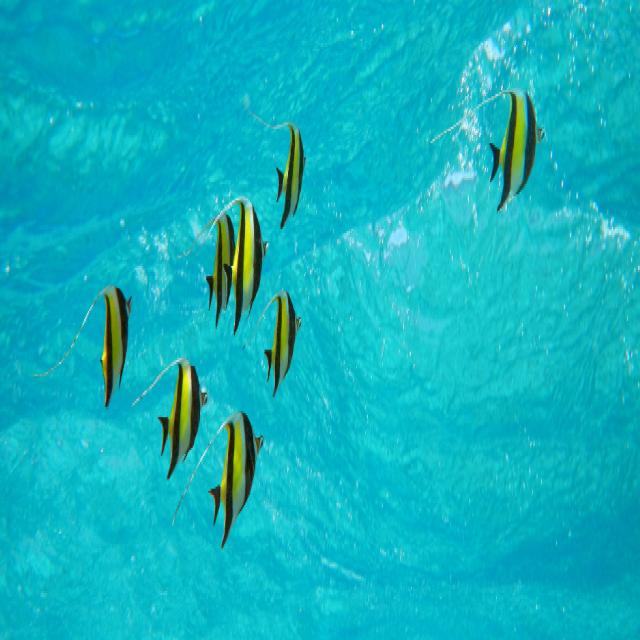MorishIdol: (172, 407, 264, 550), (131, 353, 208, 482), (67, 282, 132, 409), (487, 84, 545, 215), (242, 286, 302, 399), (223, 197, 270, 335), (189, 210, 236, 330), (276, 118, 307, 231)
